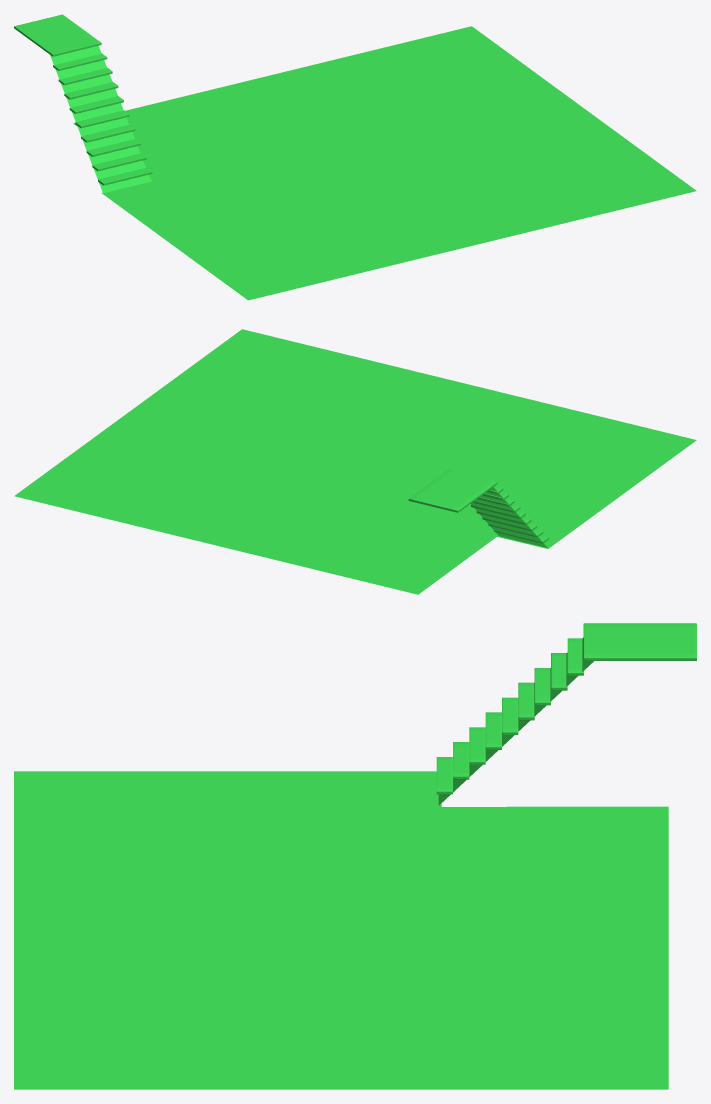
File: Navmesh01.glb
3 renders of one model, top to bottom at view 1: azimuth 30°, elevation 25°; view 2: azimuth 150°, elevation 25°; view 3: azimuth 270°, elevation 25°, orthographic. The views are drawn at different scales.
Parts seen in each view (by area): view 1: Plane, smooth_step_8; view 2: Plane, smooth_step_8; view 3: Plane, smooth_step_8.
Boxes of the visible parts, box(x1,y1,x2,y2) form: Plane: box(50, 26, 696, 300); smooth_step_8: box(14, 14, 101, 56); Plane: box(14, 329, 696, 594); smooth_step_8: box(408, 470, 497, 512); Plane: box(14, 637, 668, 1089); smooth_step_8: box(583, 623, 696, 660).
Size of the model in its own units: 13.81 by 3.02 by 12.52.
